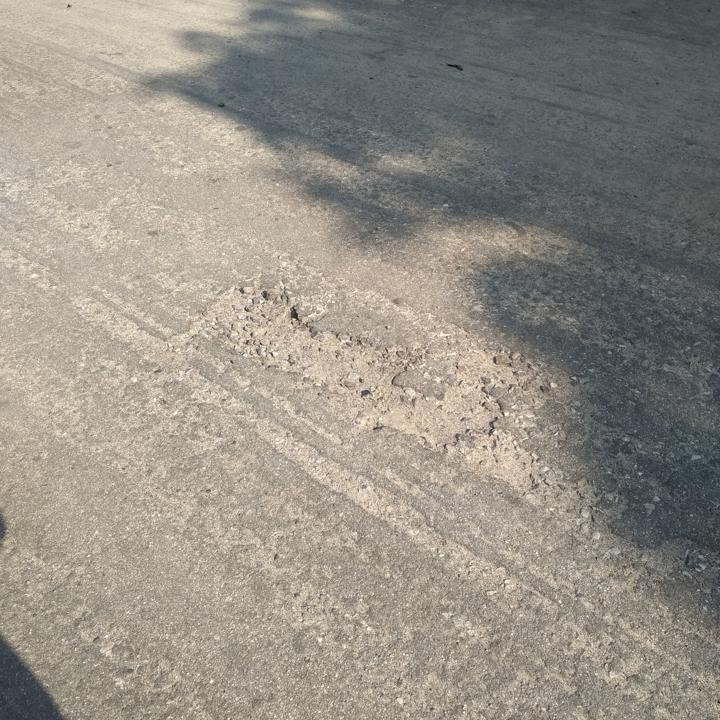pothole: (196, 277, 550, 492)
